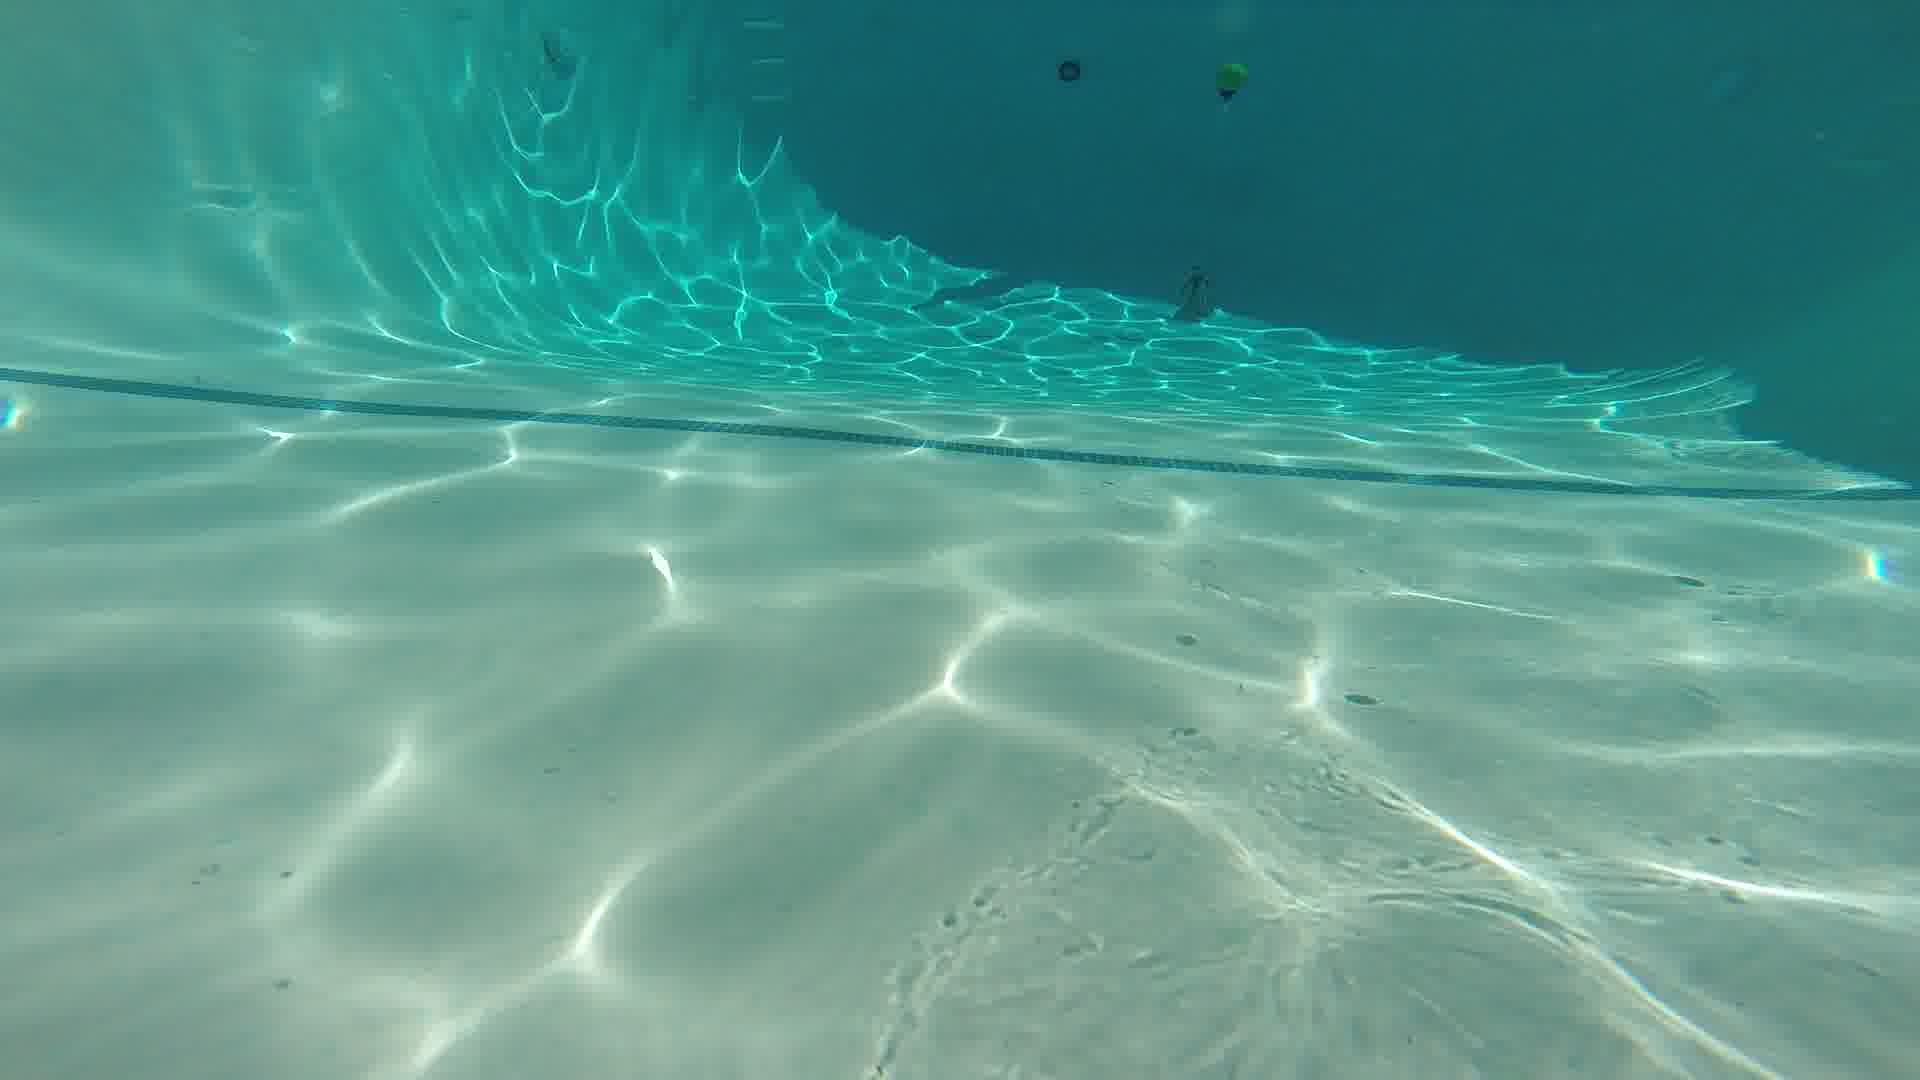yellow_buoy: (1216, 61, 1247, 103)
